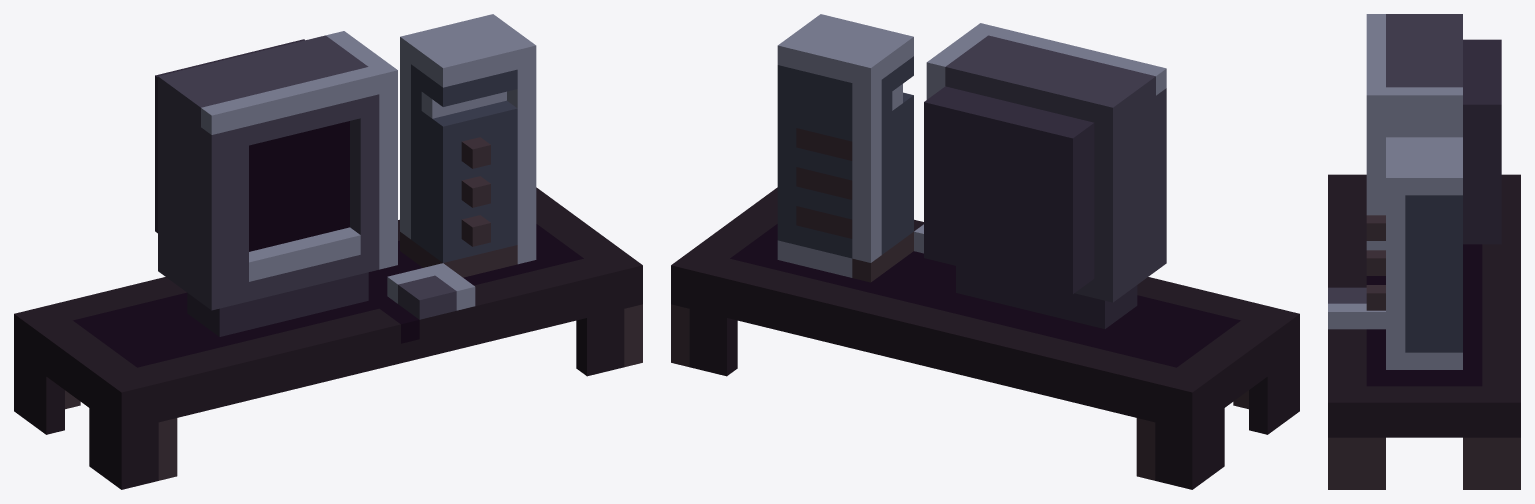
The model's file is computer.obj.
3 views of the same model, side by side, from view 1: azimuth 30°, elevation 25°; view 2: azimuth 150°, elevation 25°; view 3: azimuth 270°, elevation 25° (orthographic). The views are drawn at different scales.
Size of the model in its own units: 2.8 by 1.7 by 1.
Materials: 1 (1 with a texture image).
